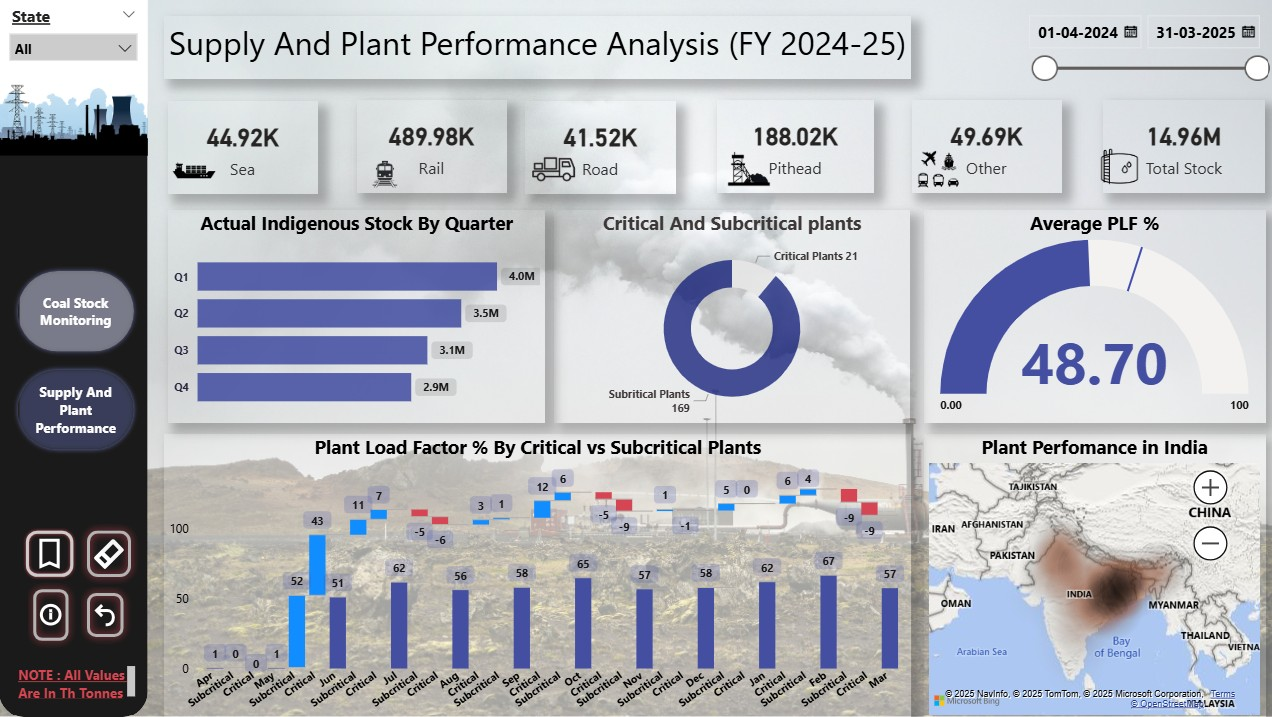

Layout of this report page (visuals, bound fields, positions):
{"tool":"powerbi","page":{"name":"Supply And Plant Performance","canvas":[1280,720],"ordinal":2},"visuals":[{"type":"textbox","box":[165,16.2,747.5,62.5],"z":0},{"type":"shape","box":[0,79.9,148.6,638],"z":1000},{"type":"slicer","fields":{"Values":["Coal.State Name"]},"box":[0,0,148.8,78.8],"z":2000},{"type":"card","fields":{"Values":["Coal Measures.Sea"]},"box":[168.8,101.2,150,92.5],"z":4000},{"type":"card","fields":{"Values":["Coal Measures.Rail"]},"box":[357.5,100,150,92.5],"z":5000},{"type":"card","fields":{"Values":["Coal Measures.Road"]},"box":[526.2,101.2,150,92.5],"z":6000},{"type":"card","fields":{"Values":["Coal Measures.Pithead"]},"box":[717.5,100,157.5,92.5],"z":7000},{"type":"card","fields":{"Values":["Coal Measures.Other"]},"box":[912.5,100,150,92.5],"z":8000},{"type":"image","box":[357.5,147.5,56.2,53.8],"z":9000},{"type":"image","box":[168.8,150,52.5,42.5],"z":10000},{"type":"image","box":[0,70,148.8,93.8],"z":11000},{"type":"image","box":[526.2,137.5,57.5,61.2],"z":12000},{"type":"image","box":[728.8,142.5,42.5,51.2],"z":13000},{"type":"image","box":[911.2,142.5,56.2,52.5],"z":14000},{"type":"clusteredBarChart","title":"Actual Indigenous Stock By Quarter","fields":{"Category":["Calender.Qtr"],"Y":["Sum(Coal.Actual Indigenous Stock In Th Tonnes)"]},"box":[168.8,210,377.5,212.5],"z":15000},{"type":"card","fields":{"Values":["Coal Measures.Total Stock"]},"box":[1103.8,100,162.5,92.5],"z":16000},{"type":"slicer","fields":{"Values":["Calender.Date"]},"box":[1017.6,5.6,262.4,83.3],"z":17000},{"type":"pageNavigator","box":[13.8,266.2,126.2,188.8],"z":18000},{"type":"actionButton","box":[23.8,527.5,53.8,52.5],"z":19000},{"type":"actionButton","box":[26.2,581.2,51.2,67.5],"z":20000},{"type":"actionButton","box":[80,522.5,60,62.5],"z":21000},{"type":"actionButton","box":[80,585,52.5,60],"z":22000},{"type":"textbox","box":[13.8,661.2,127.5,42.5],"z":23000},{"type":"gauge","title":"Average PLF %","fields":{"Y":["Coal Measures.Average PLF %"],"TargetValue":["Coal Measures.Target"],"MaxValue":["Coal Measures.Maximum"]},"box":[925,210,341.2,212.5],"z":25000},{"type":"image","box":[1092.5,140,56.2,52.5],"z":26000},{"type":"waterfallChart","title":"Plant Load Factor % By Critical vs Subcritical Plants","fields":{"Category":["Calender.Month"],"Y":["Avg(Coal.Plant Load Factor In Percentage)"],"Breakdown":["Coal.Thermo Dynamic Condition"]},"box":[165,433.8,747.5,285],"z":27000},{"type":"map","title":"Plant Perfomance in India","fields":{"Category":["Coal.State Name"],"Size":["Coal Measures.Average PLF %"]},"box":[925,433.8,341.2,286.2],"z":28000},{"type":"donutChart","title":"Critical And Subcritical plants","fields":{"Y":["Coal Measures.Critical Plants","Coal Measures.Subcritical Plants"]},"box":[555,210,356.2,212.5],"z":30000}]}

Visuals, with their boxes on the page's 1280x720 design canvas (x1, y1, x2, y2). These are canvas units, not pixel positions in the 1272x717 screenshot, which may show the page scaled, cropped or inside an application window:
textbox: bbox(165, 16, 912, 79)
shape: bbox(0, 80, 149, 718)
slicer - Coal.State Name: bbox(0, 0, 149, 79)
card - Coal Measures.Sea: bbox(169, 101, 319, 194)
card - Coal Measures.Rail: bbox(358, 100, 508, 192)
card - Coal Measures.Road: bbox(526, 101, 676, 194)
card - Coal Measures.Pithead: bbox(718, 100, 875, 192)
card - Coal Measures.Other: bbox(912, 100, 1062, 192)
image: bbox(358, 148, 414, 201)
image: bbox(169, 150, 221, 192)
image: bbox(0, 70, 149, 164)
image: bbox(526, 138, 584, 199)
image: bbox(729, 142, 771, 194)
image: bbox(911, 142, 967, 195)
"Actual Indigenous Stock By Quarter" clusteredBarChart: bbox(169, 210, 546, 422)
card - Coal Measures.Total Stock: bbox(1104, 100, 1266, 192)
slicer - Calender.Date: bbox(1018, 6, 1280, 89)
pageNavigator: bbox(14, 266, 140, 455)
actionButton: bbox(24, 528, 78, 580)
actionButton: bbox(26, 581, 77, 649)
actionButton: bbox(80, 522, 140, 585)
actionButton: bbox(80, 585, 132, 645)
textbox: bbox(14, 661, 141, 704)
"Average PLF %" gauge: bbox(925, 210, 1266, 422)
image: bbox(1092, 140, 1149, 192)
"Plant Load Factor % By Critical vs Subcritical Plants" waterfallChart: bbox(165, 434, 912, 719)
"Plant Perfomance in India" map: bbox(925, 434, 1266, 720)
"Critical And Subcritical plants" donutChart: bbox(555, 210, 911, 422)
